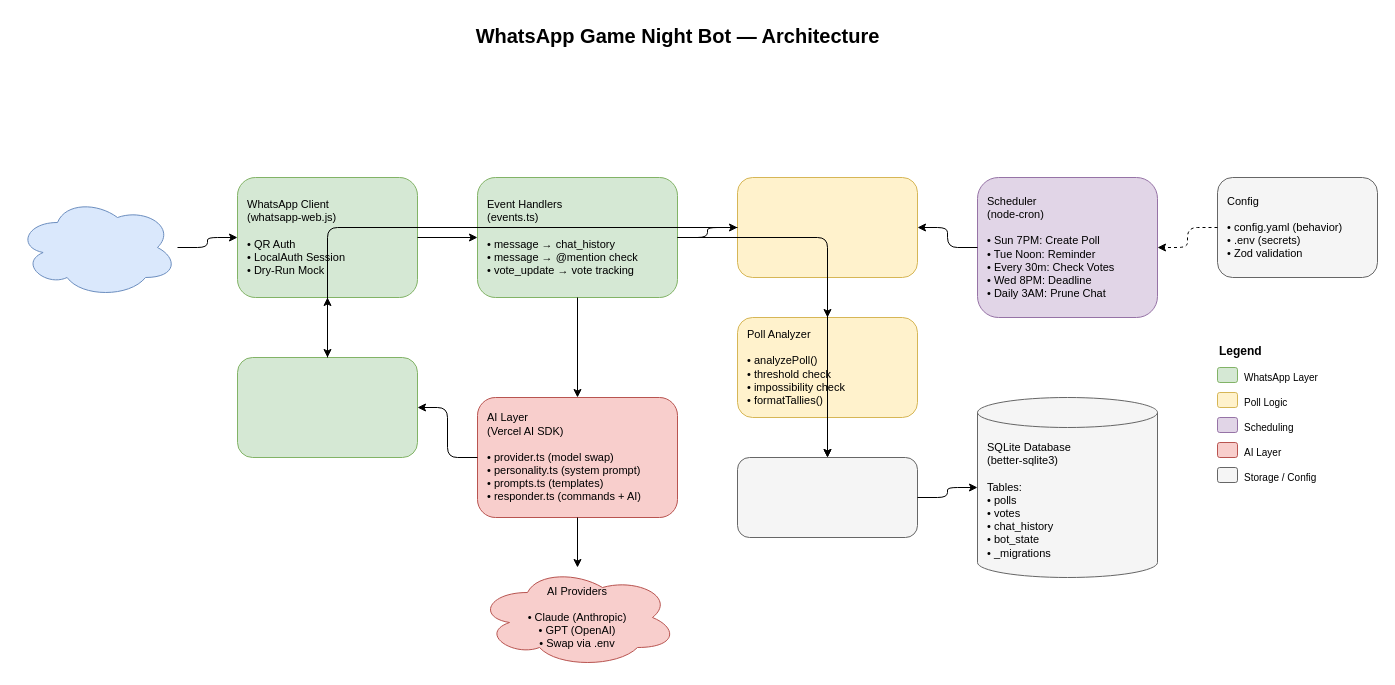
This 1395x685 diagram has some shape labels left out. The shapes that lost their labels are listed below. From the top down, each one's box as (x1, y1, x2, y2) in pixels, then its label:
(16, 196, 178, 298): WhatsApp
(736, 176, 918, 278): Poll Manager • createWeeklyPoll() • handleVote() • checkAndConclude()
(236, 356, 418, 458): Actions (actions.ts) • sendPoll() • sendMessage() • sendReply()
(736, 456, 918, 538): Repositories • poll.repo.ts • vote.repo.ts • chat.repo.ts
